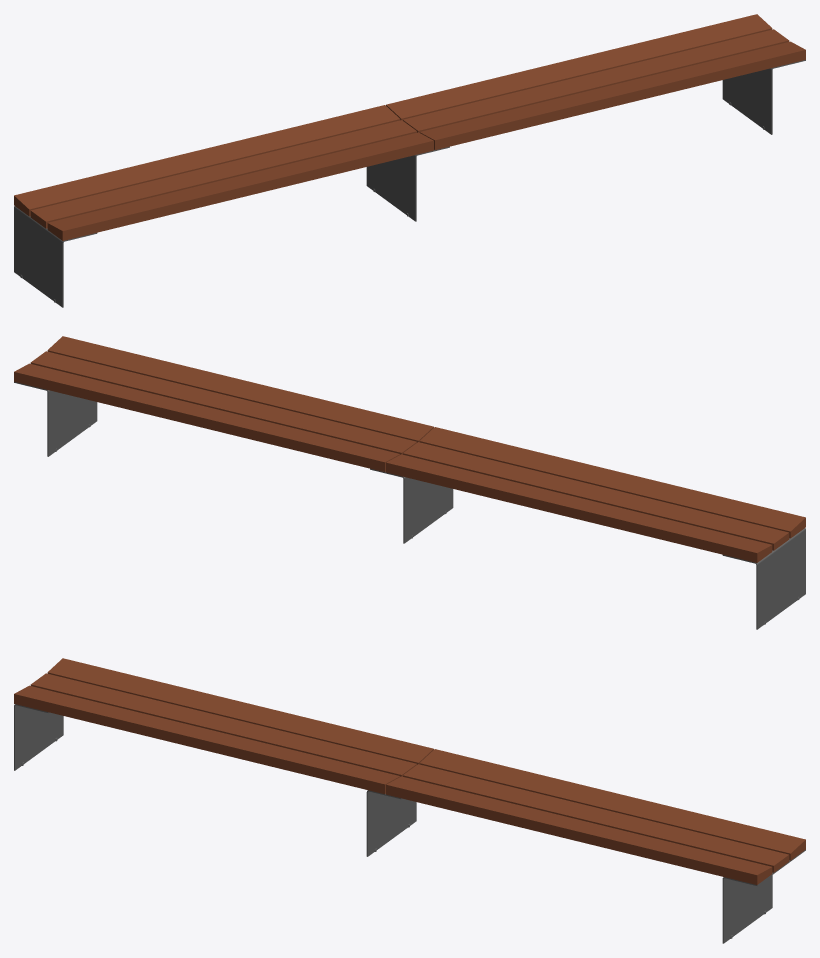
The picture shows the model from 3 angles, top to bottom: view 1: azimuth 30°, elevation 25°; view 2: azimuth 150°, elevation 25°; view 3: azimuth 330°, elevation 25°; orthographic projection.
Parts seen in each view (by area): view 1: mesh7_mesh7-geometry, mesh5_mesh5-geometry, mesh25_mesh25-geometry, mesh3_mesh3-geometry, mesh1_mesh1-geometry; view 2: mesh5_mesh5-geometry, mesh7_mesh7-geometry, mesh25_mesh25-geometry, mesh3_mesh3-geometry, mesh1_mesh1-geometry; view 3: mesh7_mesh7-geometry, mesh5_mesh5-geometry, mesh25_mesh25-geometry, mesh1_mesh1-geometry, mesh3_mesh3-geometry.
Part boxes in pixels (x1=…): mesh7_mesh7-geometry: x1=47, y1=41, x2=805, y2=240; mesh5_mesh5-geometry: x1=14, y1=14, x2=772, y2=216; mesh25_mesh25-geometry: x1=14, y1=60, x2=805, y2=307; mesh3_mesh3-geometry: x1=30, y1=120, x2=416, y2=228; mesh1_mesh1-geometry: x1=403, y1=29, x2=789, y2=132; mesh5_mesh5-geometry: x1=14, y1=363, x2=772, y2=562; mesh7_mesh7-geometry: x1=47, y1=336, x2=805, y2=538; mesh25_mesh25-geometry: x1=14, y1=382, x2=805, y2=629; mesh3_mesh3-geometry: x1=403, y1=442, x2=789, y2=550; mesh1_mesh1-geometry: x1=30, y1=351, x2=416, y2=454; mesh7_mesh7-geometry: x1=14, y1=685, x2=772, y2=884; mesh5_mesh5-geometry: x1=47, y1=658, x2=805, y2=860; mesh25_mesh25-geometry: x1=14, y1=704, x2=805, y2=943; mesh1_mesh1-geometry: x1=403, y1=764, x2=789, y2=872; mesh3_mesh3-geometry: x1=30, y1=673, x2=416, y2=776.
Size of the model in its own units: 0.9889 by 0.0975 by 0.1124.
